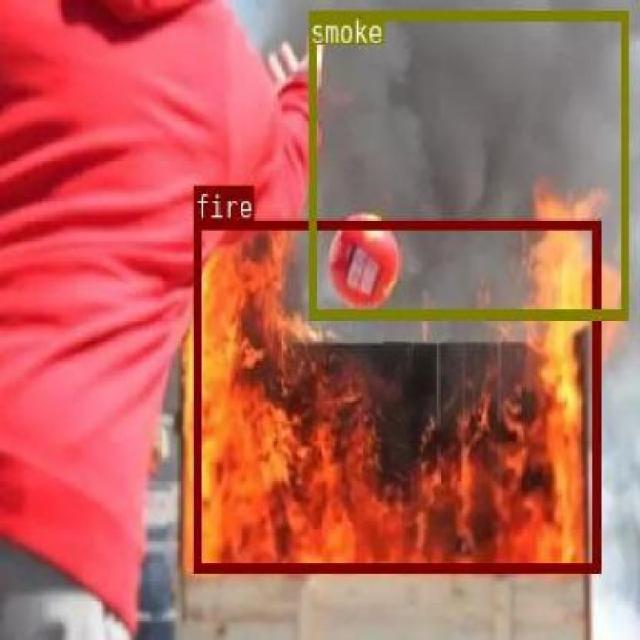Fire: (192, 219, 597, 570)
Smoke: (308, 9, 627, 316)
